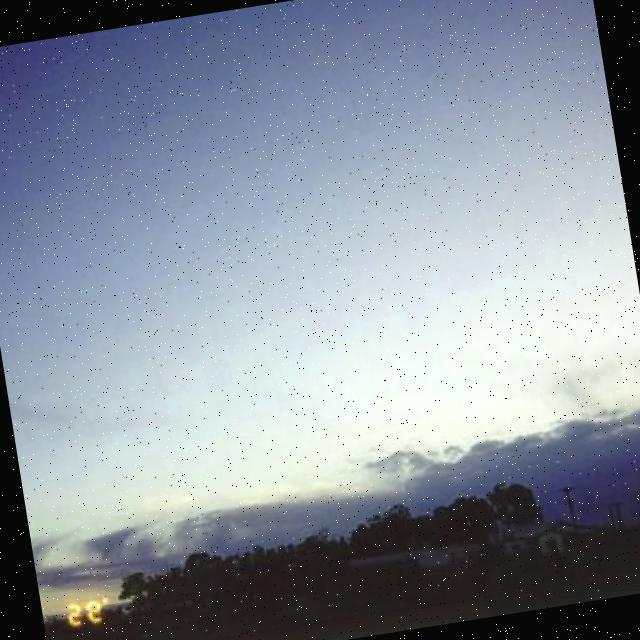Ns: (1, 1, 640, 557)
